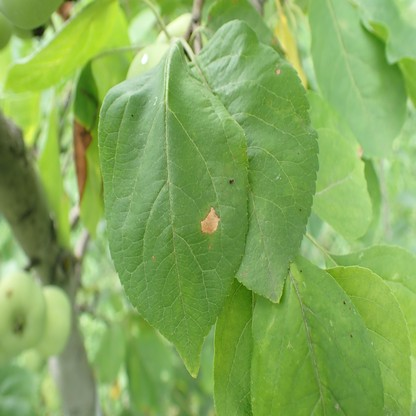frogeye_leaf_spot: (199, 207, 221, 235)
